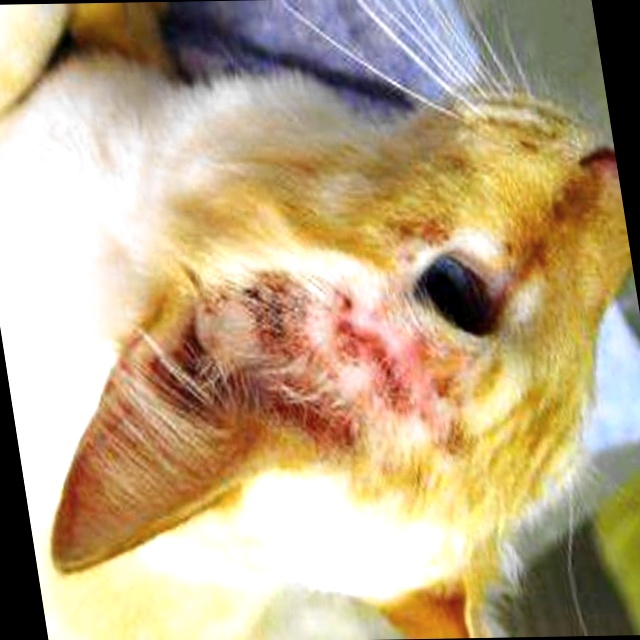ringworm: (230, 273, 495, 463)
